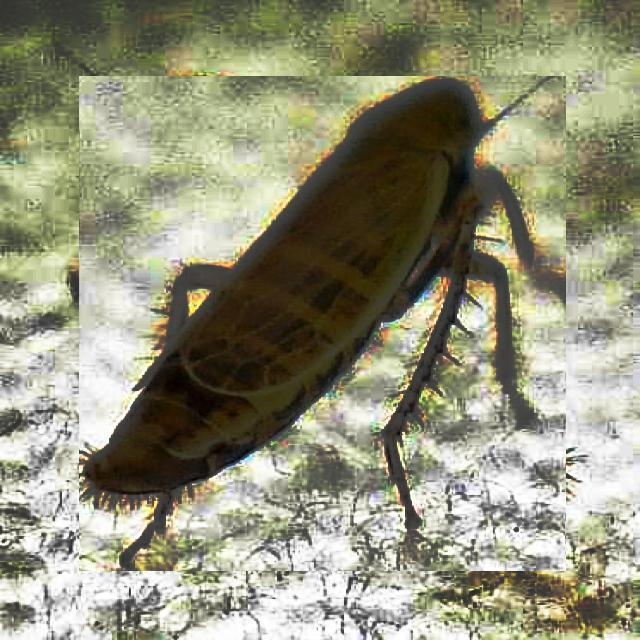green-leafhopper: (80, 76, 566, 571)
